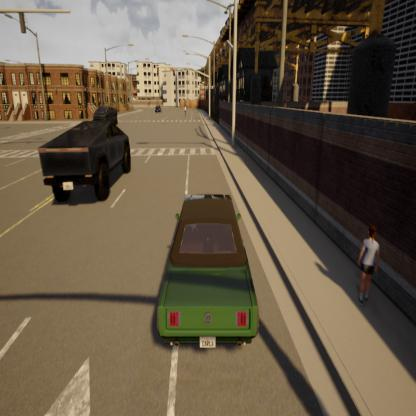Cars: (158, 144, 267, 382), (35, 102, 142, 236), (85, 96, 126, 138), (150, 87, 167, 119)
Pedestrian: (354, 182, 393, 337)
